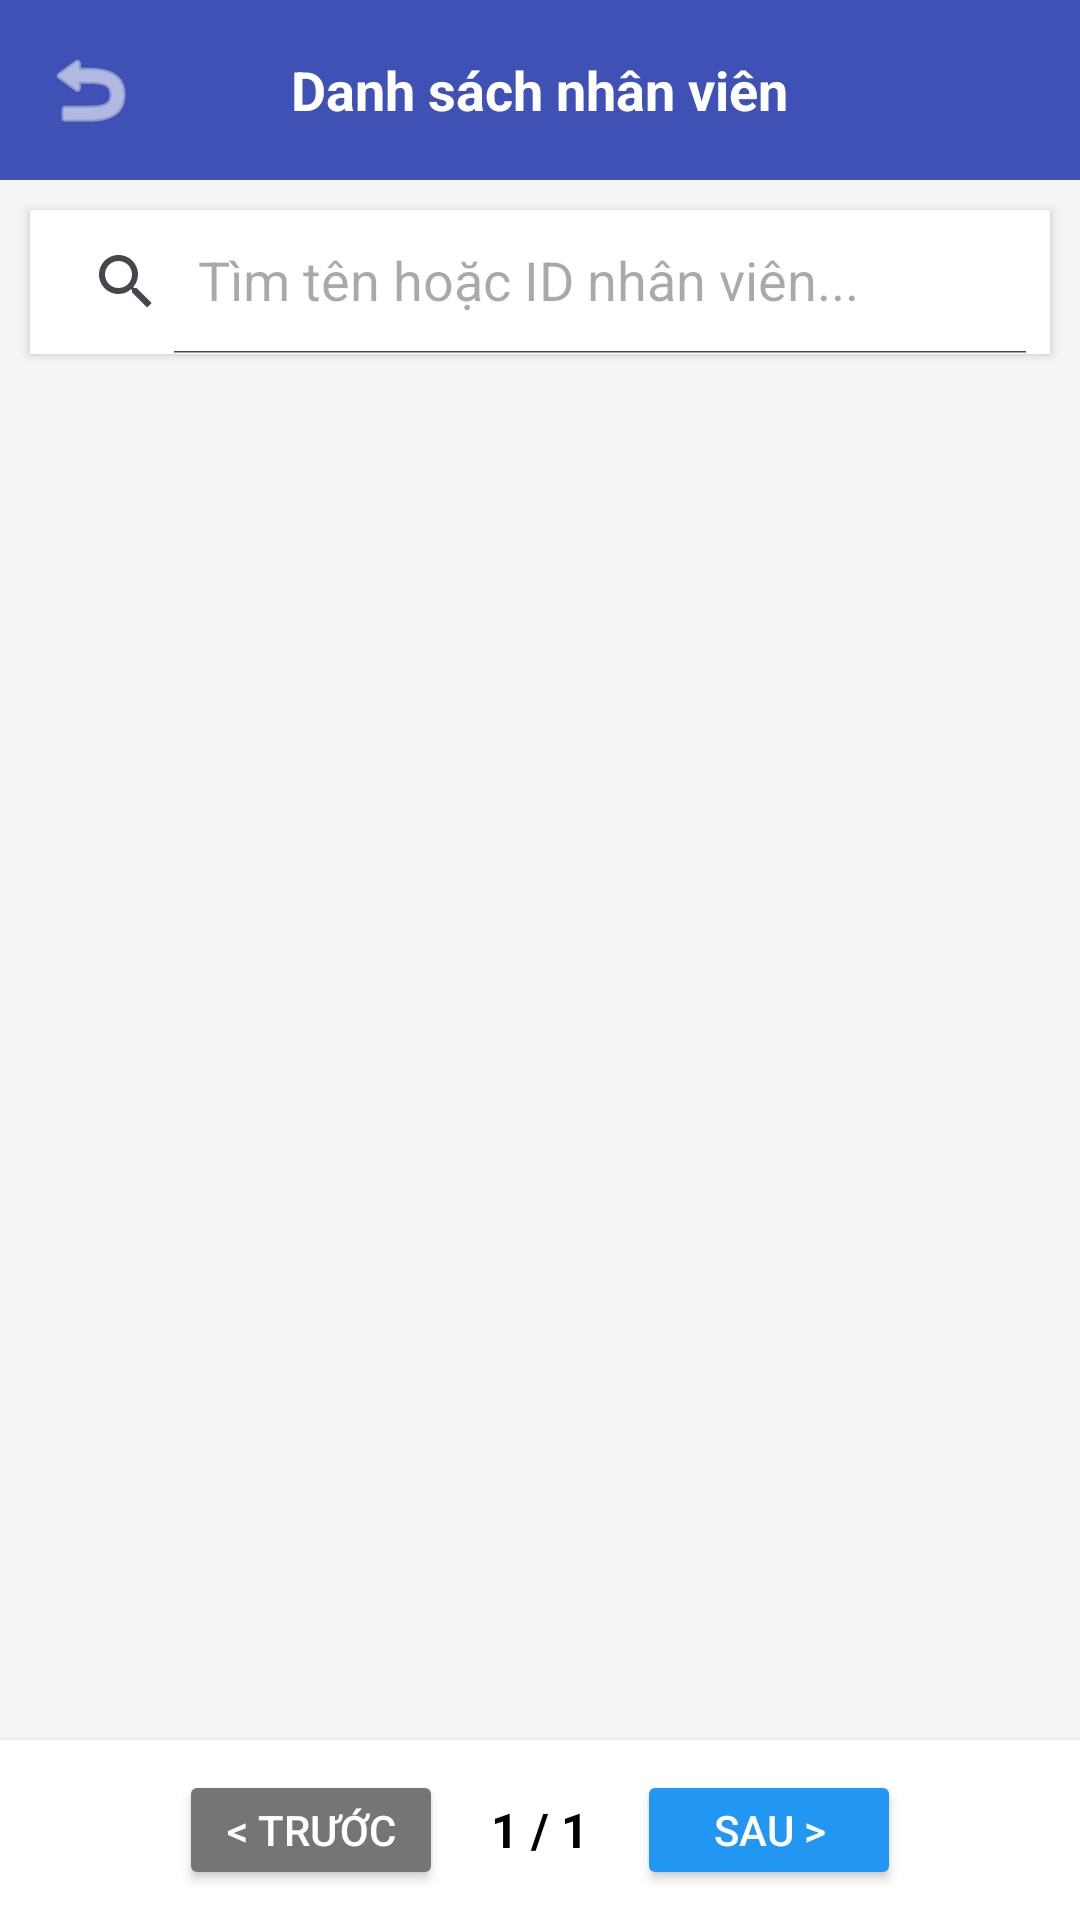

Where icons sit on this 1080*1920 app screen, as (x1, y1, x2, y2):
revert: (57, 59, 126, 122)
